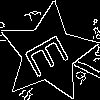E: (23, 28, 79, 79)
